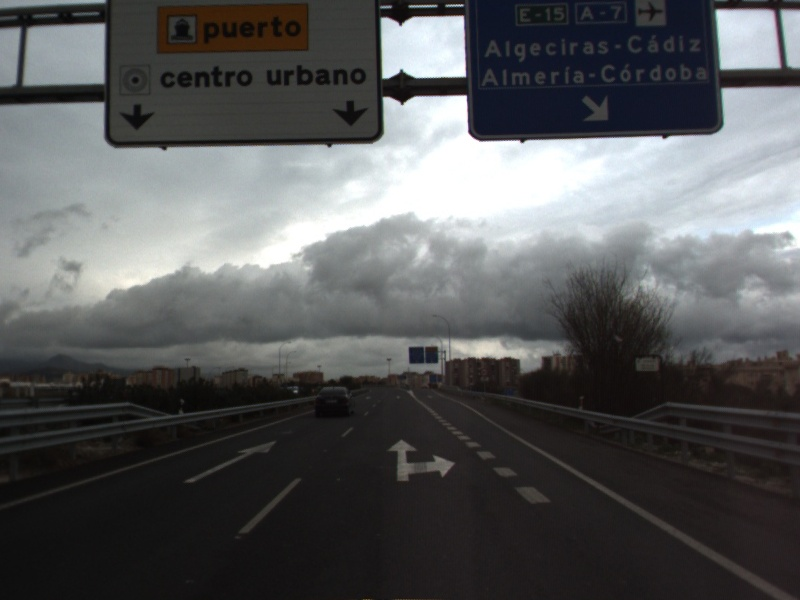STRAIGHT: (181, 439, 279, 485)
STRAIGHT_RIGHT: (384, 437, 458, 483)
